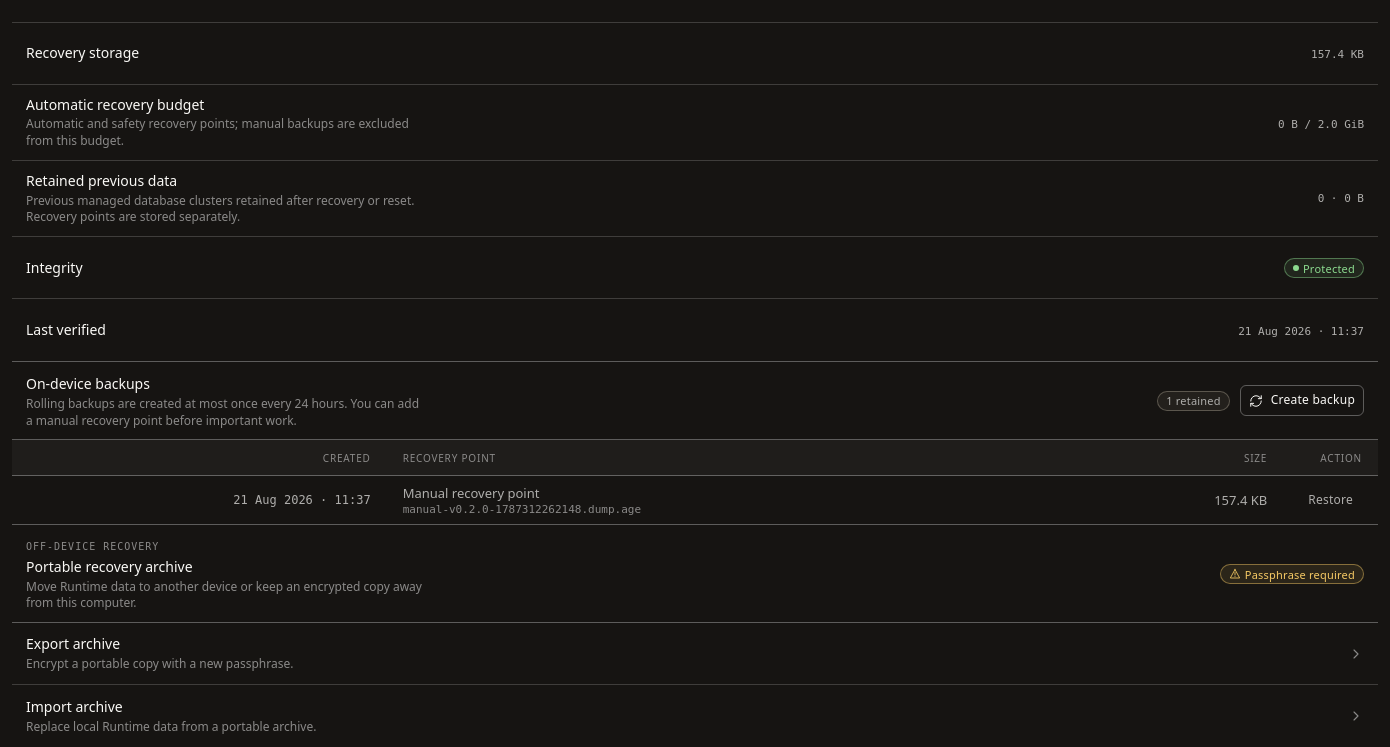
Test: BackupRecoverySettings › reports and clears a recovery passphrase draft when its flow is canceled
The width and height of the screenshot is (1390, 747).
(page scrolled)
Click the button "Export archive": (73, 644) [12,623,1378,685]
(page scrolled)
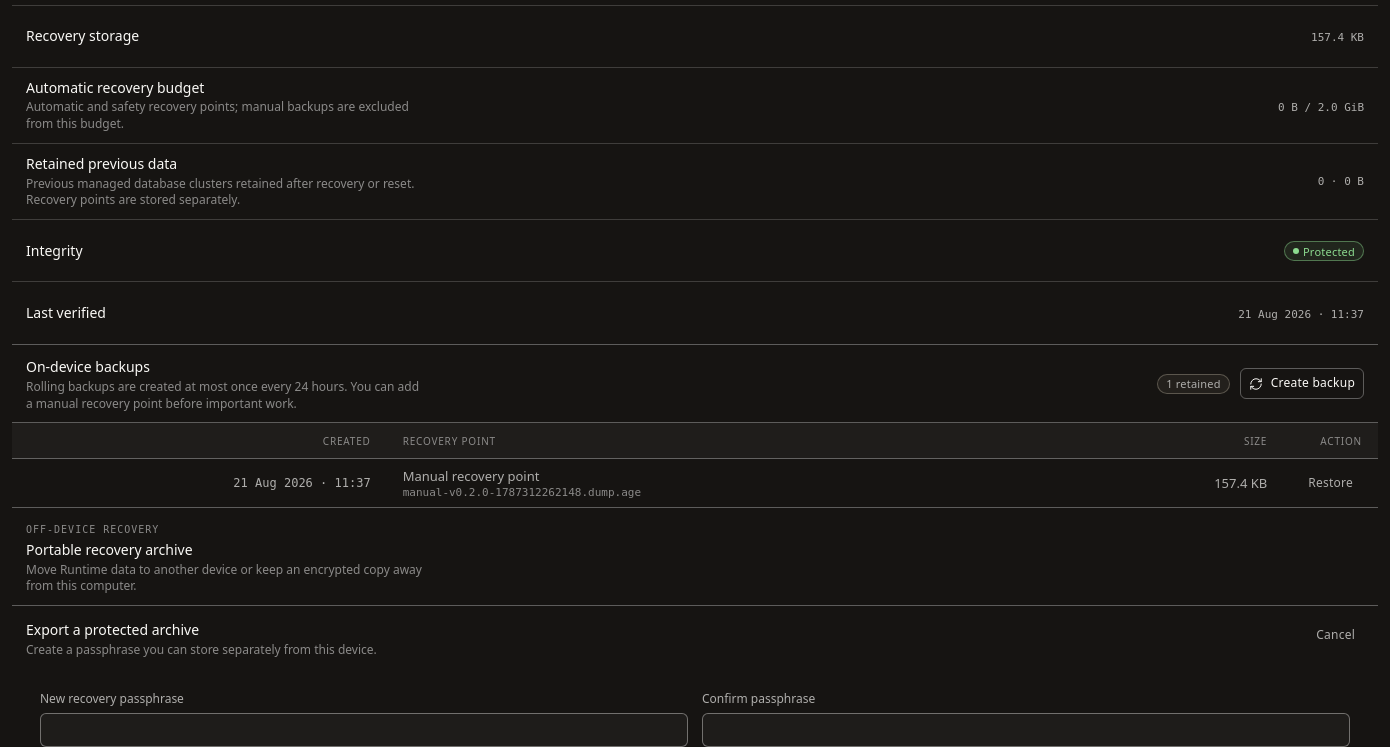
In the password field labelled "New recovery passphrase": (364, 730) [40,713,688,746], type "recovery-passphrase-2026"
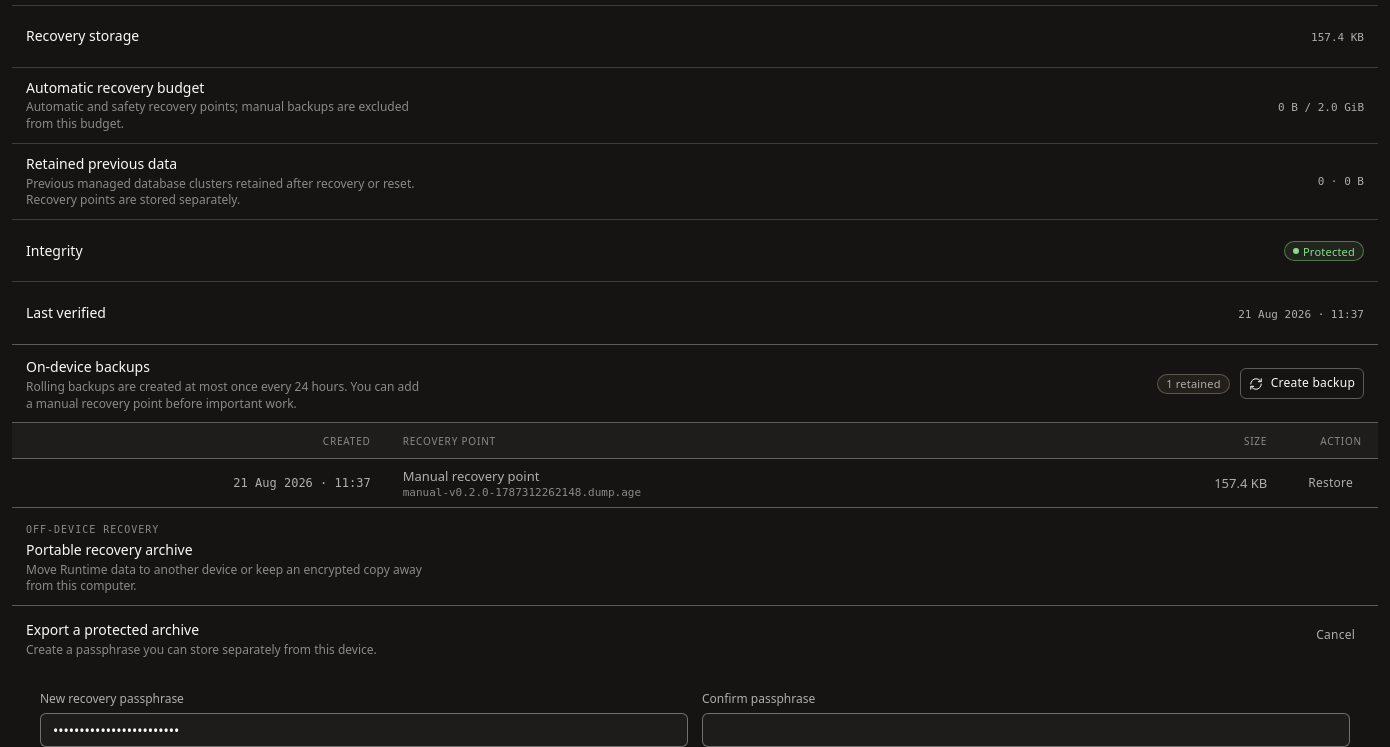
Click the button "Cancel": (1336, 636) [1307,620,1364,651]
(page scrolled)
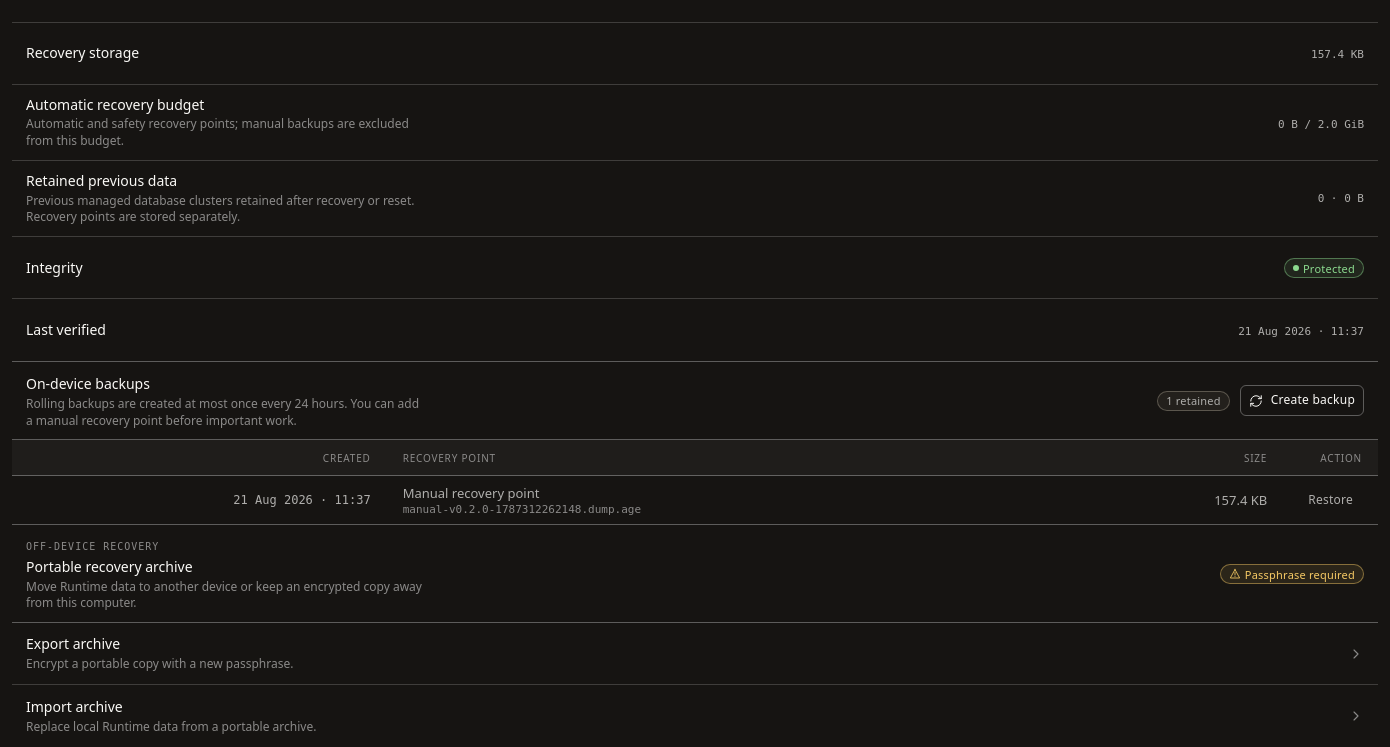
Now the label labelled "New recovery passphrase" is gone
